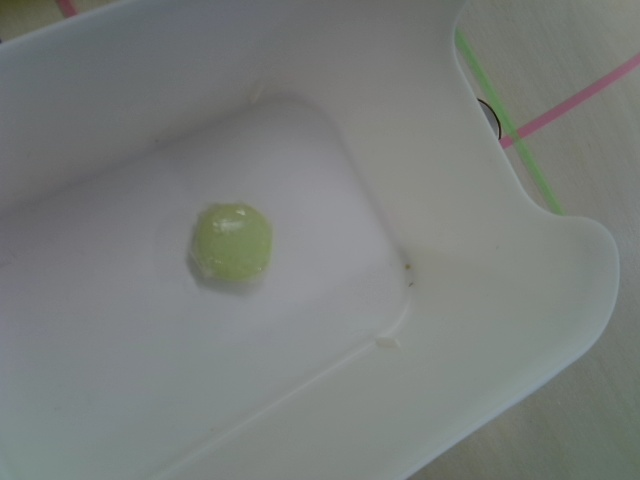씨앗: (190, 203, 275, 285)
